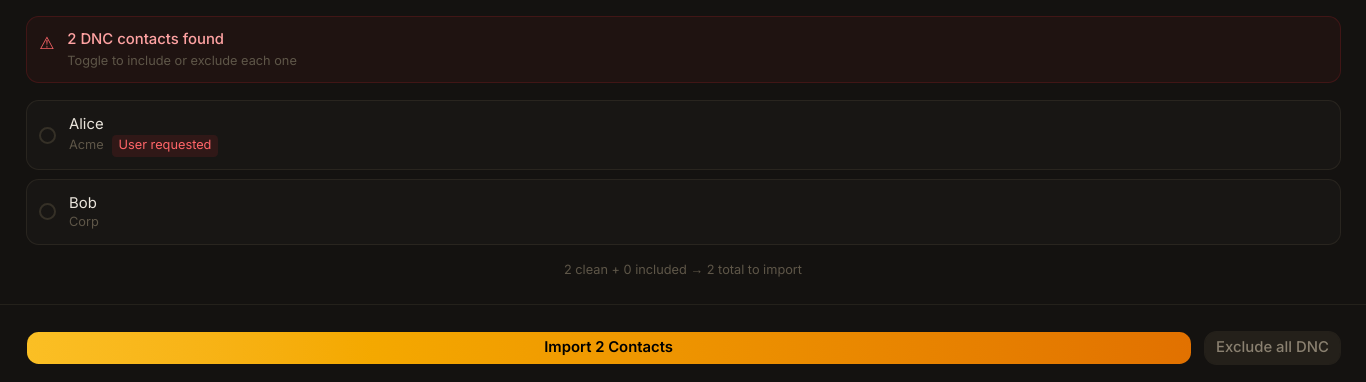
CampaignWizardStep3 › includes a toggled contact in the import count
This screenshot has width=1366, height=382.
Click the button "Alice Acme User requested" at (86, 124), box [26, 100, 1340, 170]
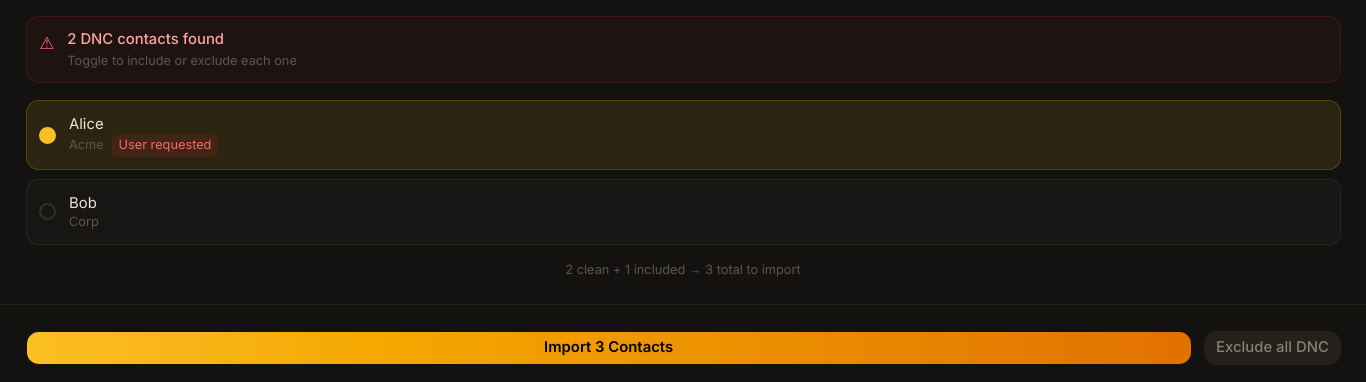
Now the button "Import 3 Contacts" is shown, box [26, 331, 1192, 365]
